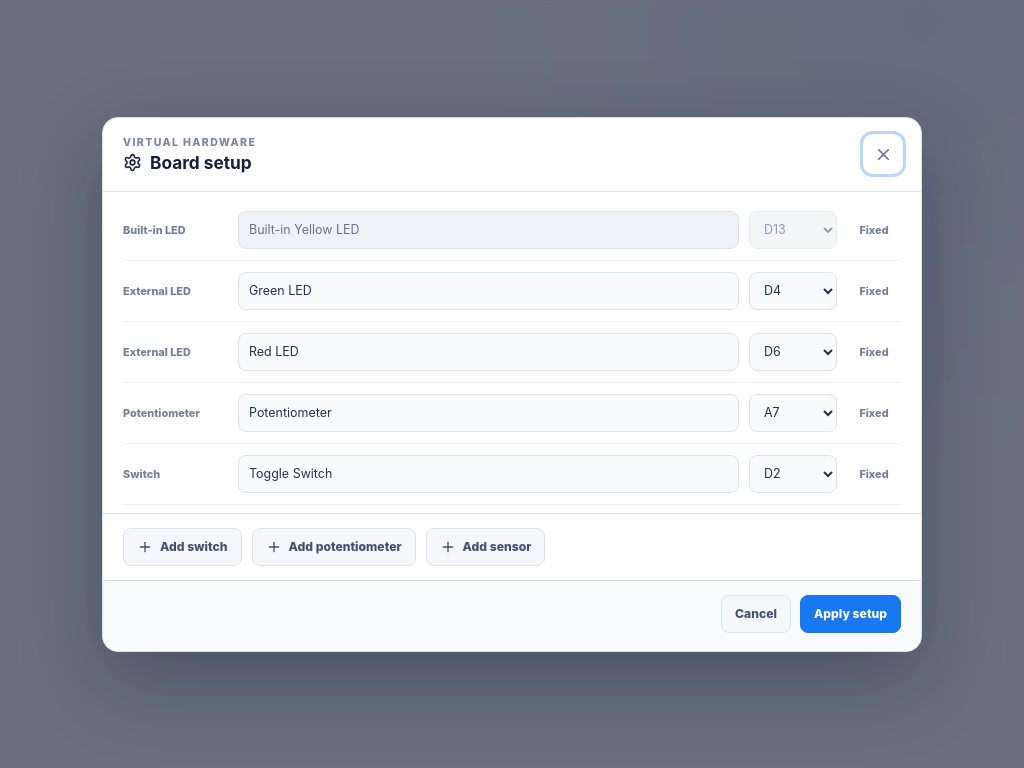
hardware setup › requires non-empty device names
Clear the 2nd field showing "Green LED" at (488, 290), box [238,272,739,310]
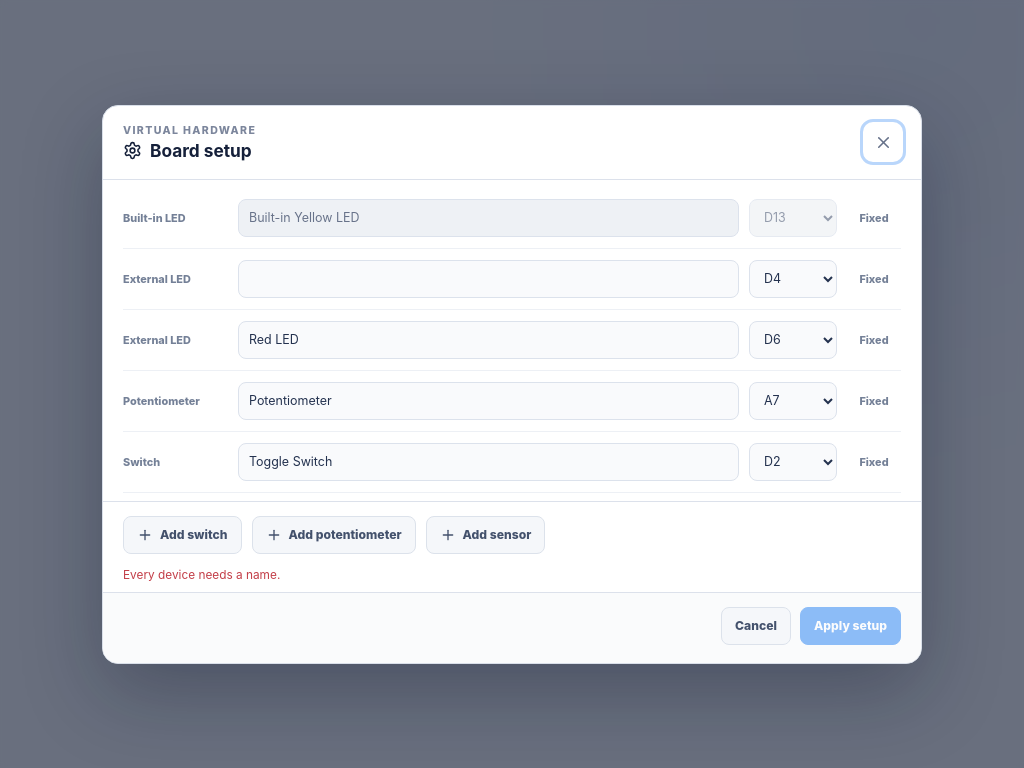
Expected: the message reads "Every device needs a name.", [123,568,280,582]
Expected: the button "Apply setup" is disabled, [800,606,901,644]
